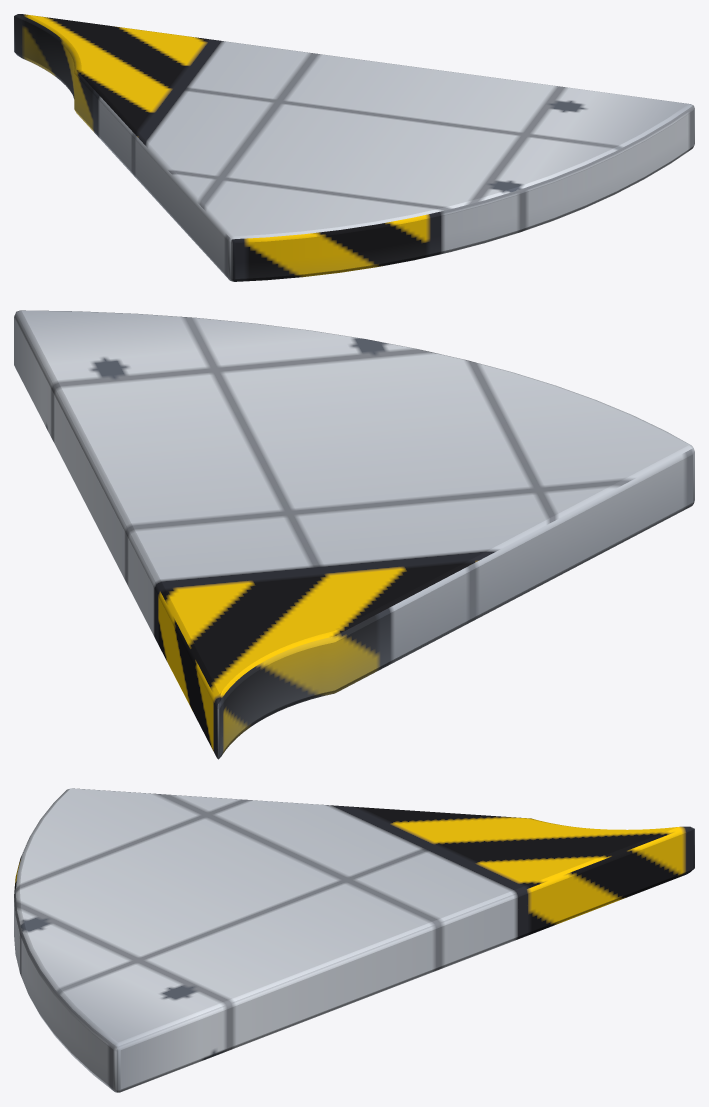
File: rocket_silo_petal.glb
3 views of the same model, one above another, from view 1: azimuth 30°, elevation 25°; view 2: azimuth 150°, elevation 25°; view 3: azimuth 270°, elevation 25° (orthographic). The views are drawn at different scales.
Parts seen in each view (by area): view 1: Petal; view 2: Petal; view 3: Petal.
Boxes of the visible parts, left/top/right/bottom form: Petal: left=14, top=14, right=694, bottom=281; Petal: left=14, top=310, right=694, bottom=759; Petal: left=14, top=788, right=694, bottom=1092.
Bounding box in the file's own units: 0.2452 × 0.022 × 0.272.
1 material, 1 textured.
